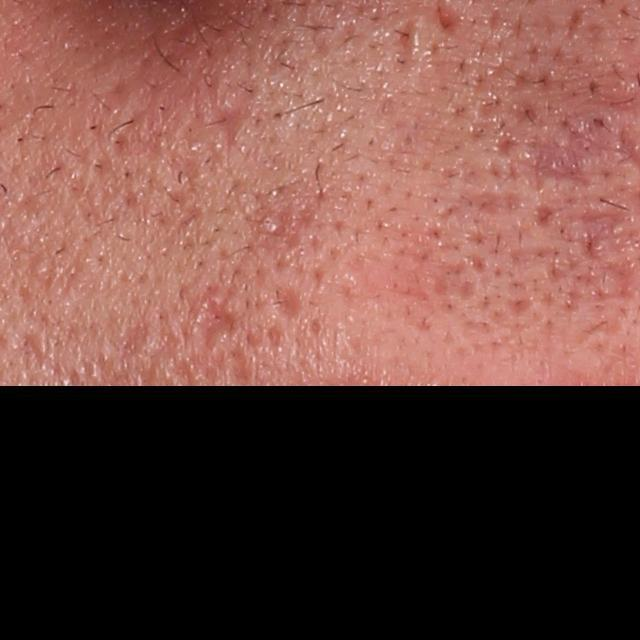atrophic_scar: (210, 86, 261, 153), (249, 204, 316, 247), (196, 297, 236, 356), (270, 281, 305, 323)
